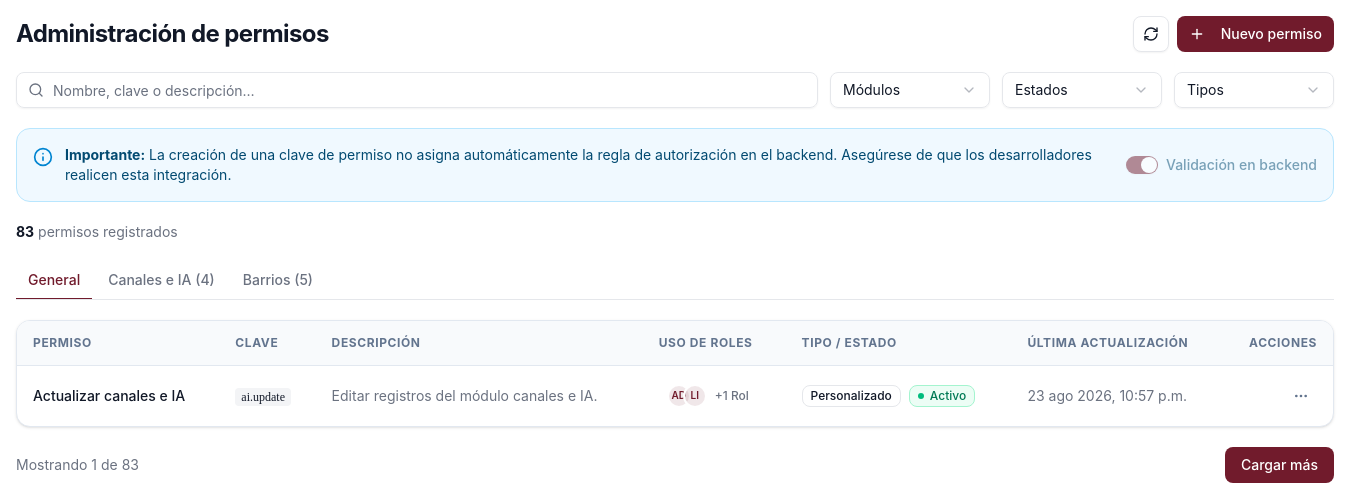
Test: PermissionsView › filters the catalog by module when a tab is selected
This screenshot has width=1351, height=500.
Click the tab "Barrios (5)". click: (278,281)
box: [231,262,325,300]
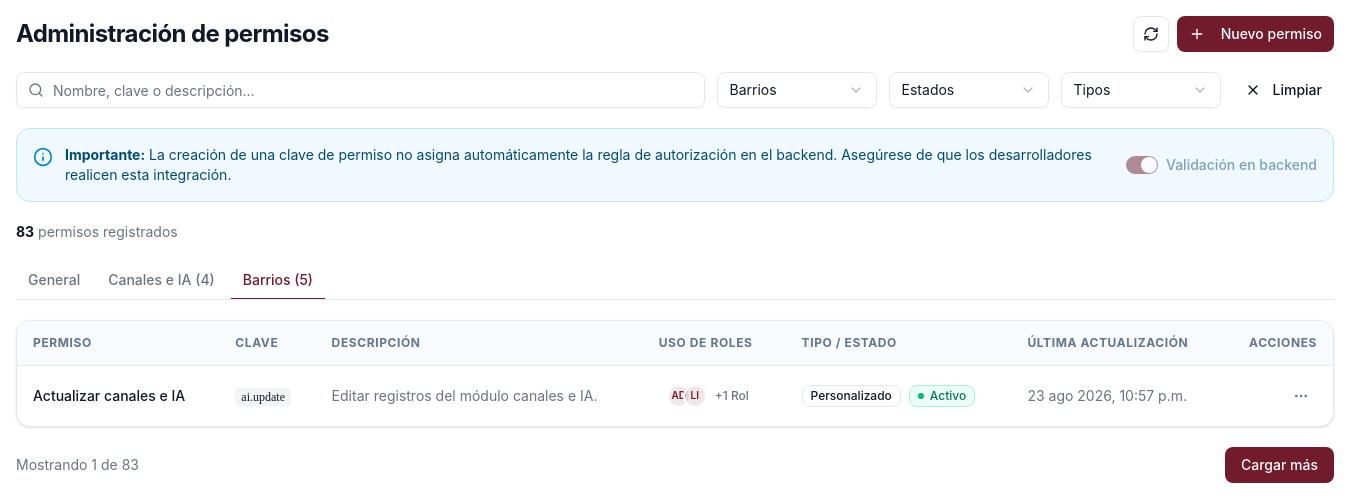
Result: the tab "Barrios (5)" is selected at [231,262,325,300]
